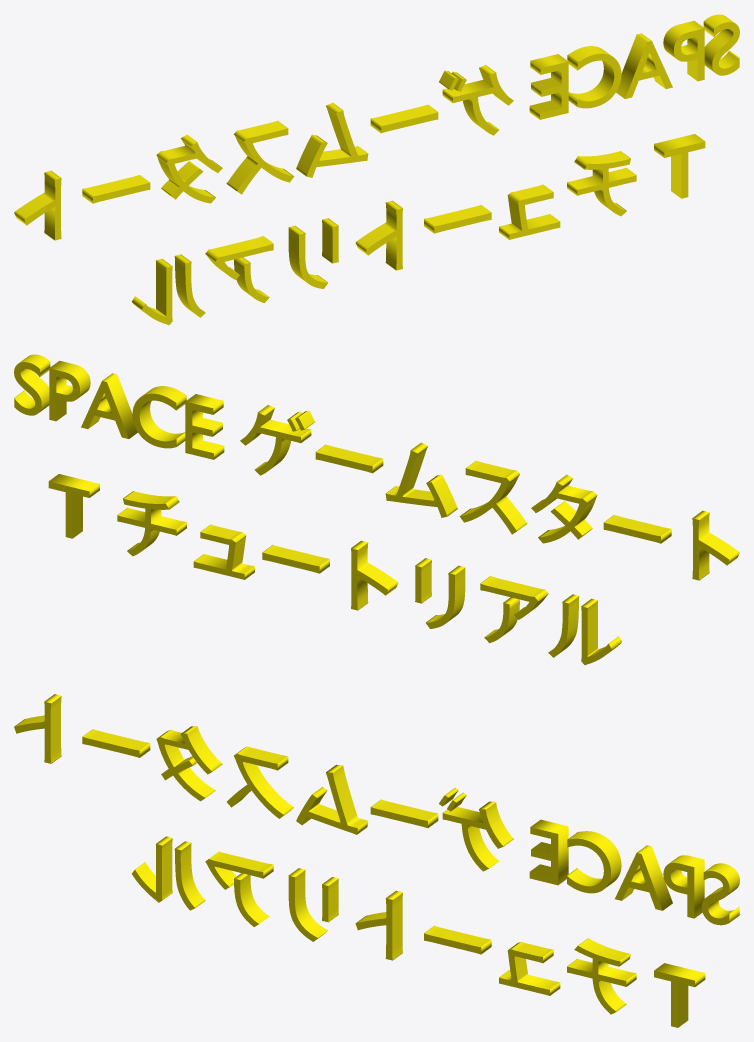
Rendered from Title_UI.obj.
The picture shows the model from 3 angles, top to bottom: view 1: azimuth 30°, elevation 25°; view 2: azimuth 150°, elevation 25°; view 3: azimuth 330°, elevation 25°; orthographic projection.
Parts seen in each view (by area): view 1: テキスト.001; view 2: テキスト.001; view 3: テキスト.001.
Part boxes in pixels (<box>): テキスト.001: <box>14,14,739,325</box>; テキスト.001: <box>14,354,739,665</box>; テキスト.001: <box>14,694,739,1027</box>.
Size of the model in its own units: 19.86 by 4.75 by 0.5.
Materials: 1 (1 with a texture image).
